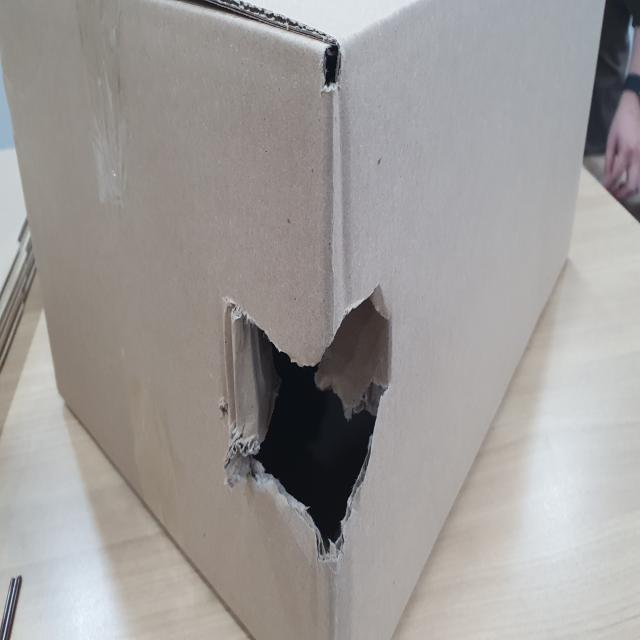hole: (224, 279, 398, 565)
